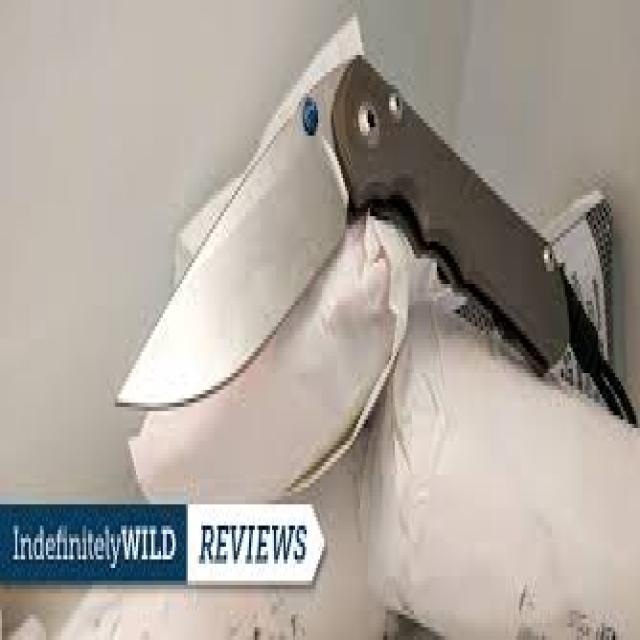knives: (94, 4, 396, 450)
